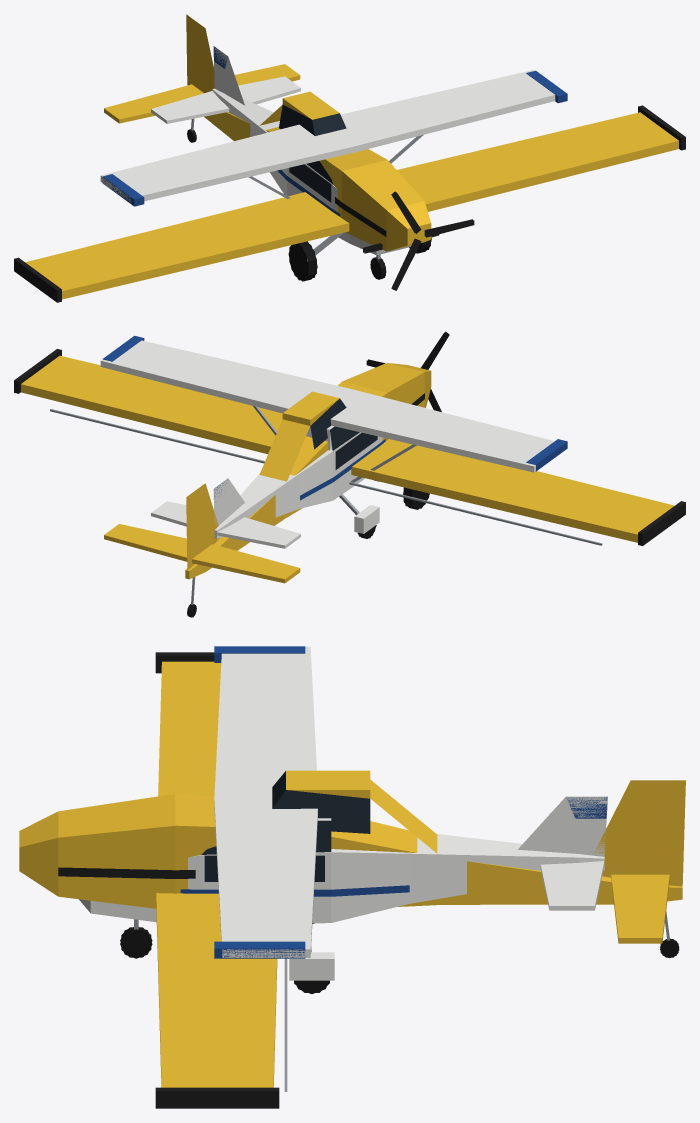
File: planes.glb
3 renders of one model, top to bottom at view 1: azimuth 30°, elevation 25°; view 2: azimuth 150°, elevation 25°; view 3: azimuth 270°, elevation 25°, orthographic. The views are drawn at different scales.
Parts seen in each view (by area): view 1: cropduster, cessna, cropduster_prop; view 2: cropduster, cessna, cropduster_prop; view 3: cropduster, cessna.
Boxes of the visible parts, x1,y1,x2,y2 form: cropduster: (14, 14, 685, 302); cessna: (100, 46, 567, 279); cropduster_prop: (391, 191, 474, 290); cropduster: (14, 349, 685, 617); cessna: (100, 335, 567, 548); cropduster_prop: (366, 331, 449, 411); cropduster: (19, 652, 685, 1108); cessna: (79, 646, 607, 993).
Bounding box in the file's own units: 15.96 × 3 × 10.33.
